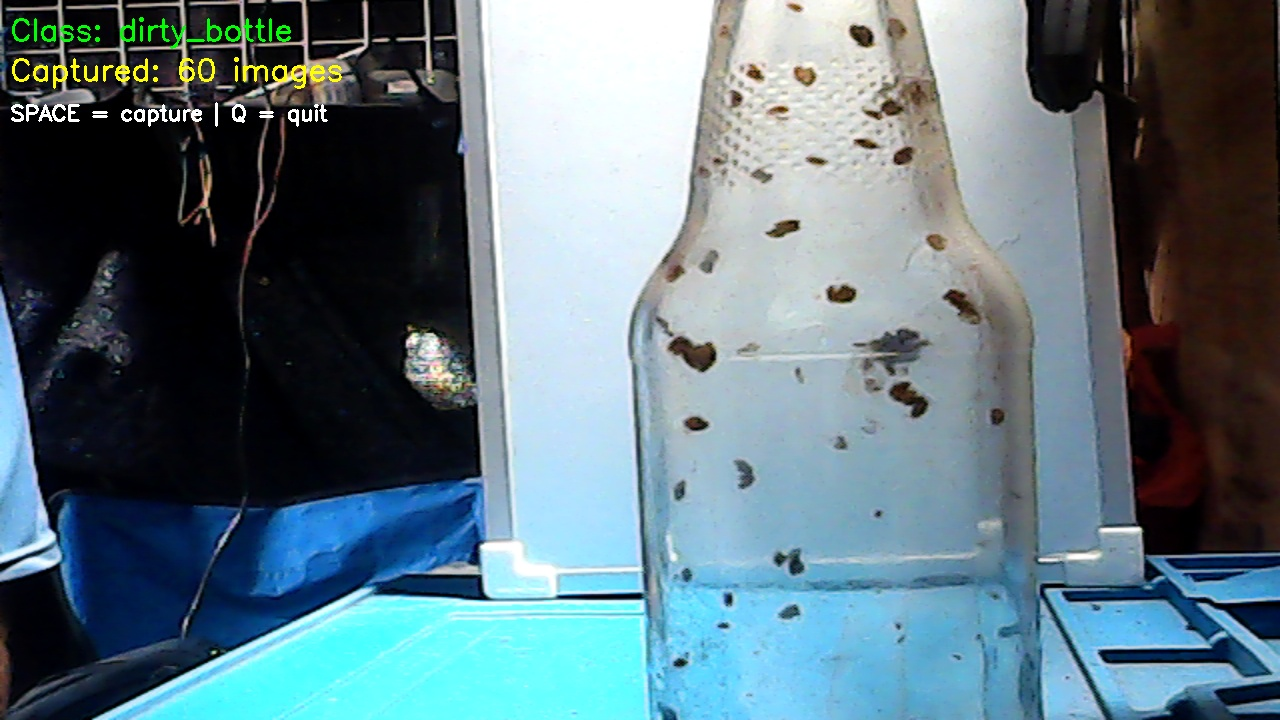dirty_bottle: (617, 1, 1057, 712)
